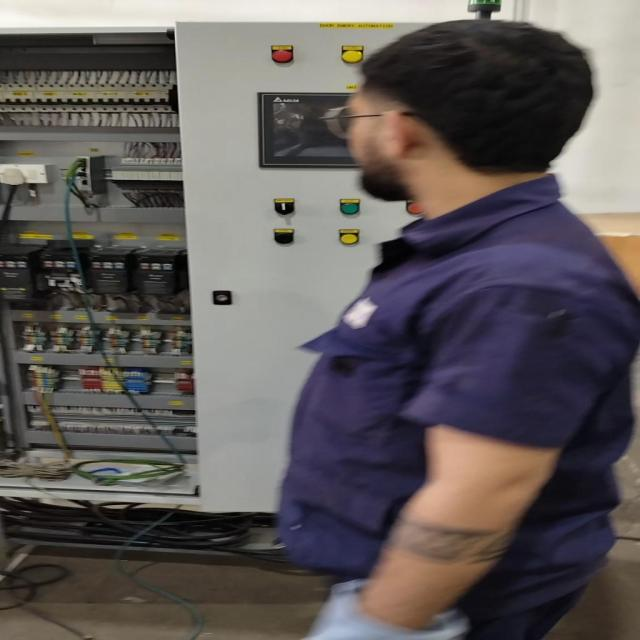Gloves-Detection: (314, 570, 484, 640)
